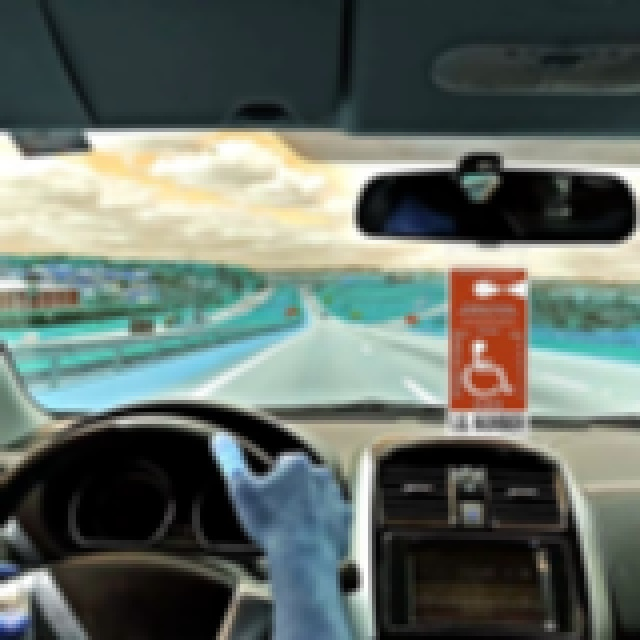ISA: (457, 330, 518, 402)
